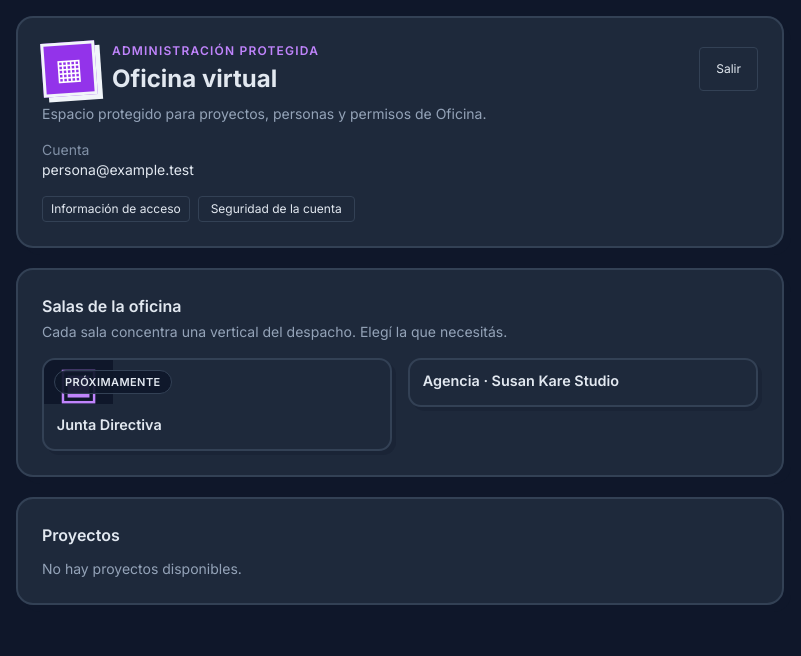
Virtual Office · instalación de oficina › la sala filtrada sin proyectos muestra su vacío propio
Click the button "Agencia · Susan Kare Studio": {"x": 583, "y": 382} [408,358,758,407]
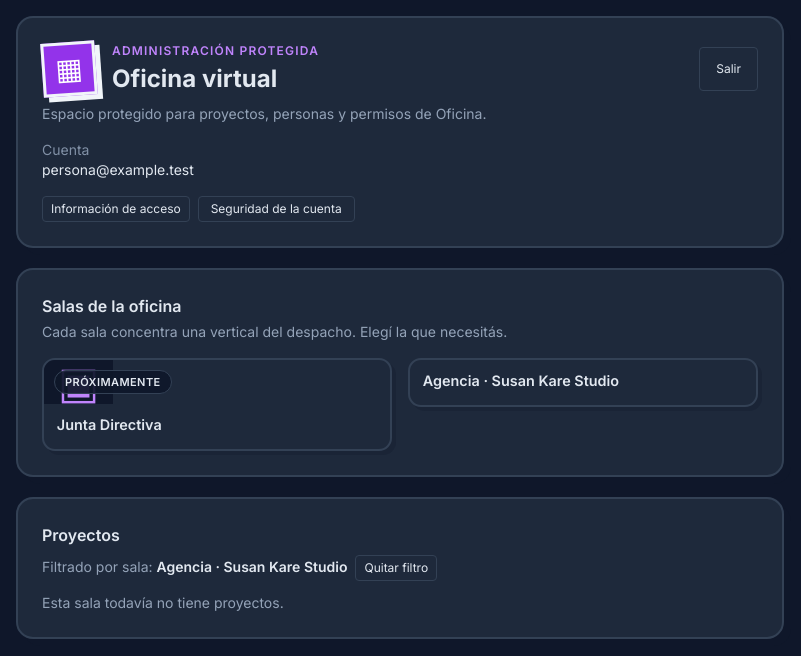
Check: the text "Esta sala todavía no tiene proyectos." is shown, box [42,594,284,611]
